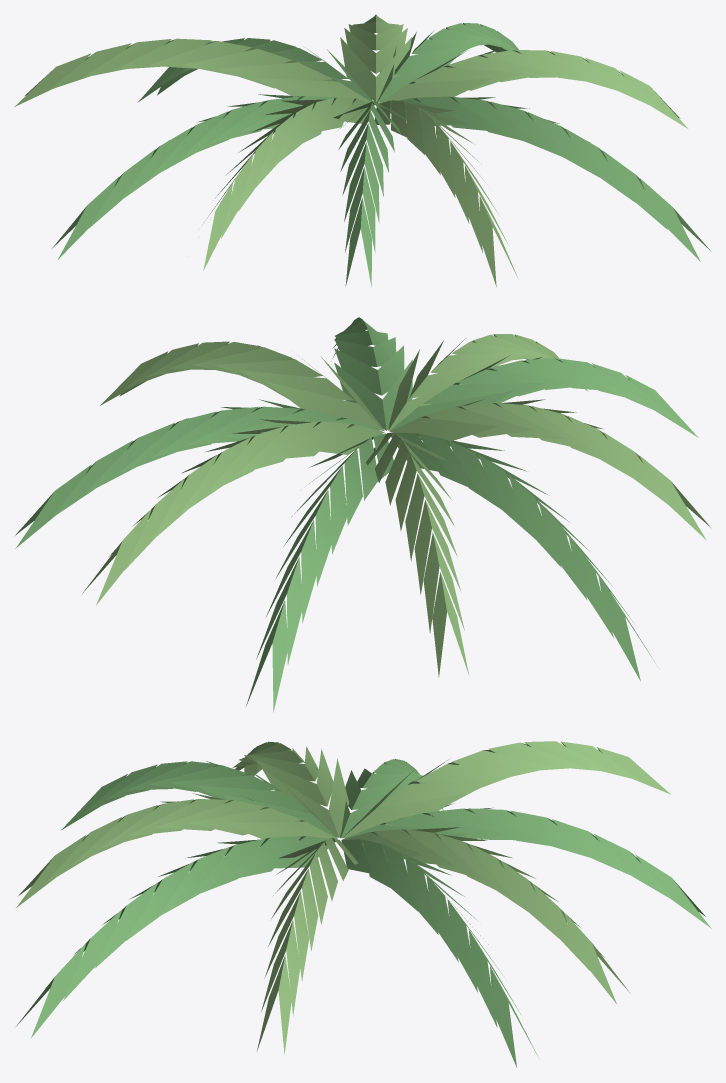
The model's file is farn_2.glb.
The picture shows the model from 3 angles, top to bottom: view 1: azimuth 30°, elevation 25°; view 2: azimuth 150°, elevation 25°; view 3: azimuth 270°, elevation 25°; orthographic projection. The views are drawn at different scales.
Visible parts, largest first — view 1: G_farn_2; view 2: G_farn_2; view 3: G_farn_2.
Part boxes in pixels (bbox=[...]): G_farn_2: bbox=[14, 14, 711, 286]; G_farn_2: bbox=[15, 317, 710, 712]; G_farn_2: bbox=[16, 741, 711, 1067].
Size of the model in its own units: 2.87 by 0.7563 by 2.87.
